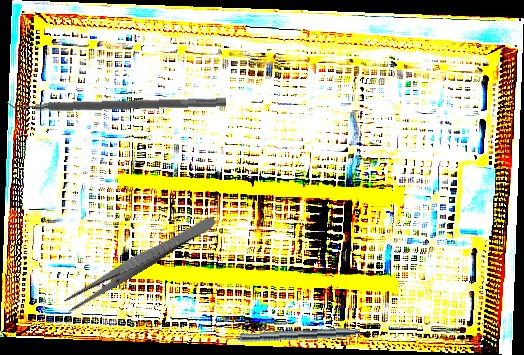Dressing Forceps: (61, 210, 219, 315)
Handpiece: (216, 324, 361, 345)
Spatula Surgical: (5, 88, 227, 115)
